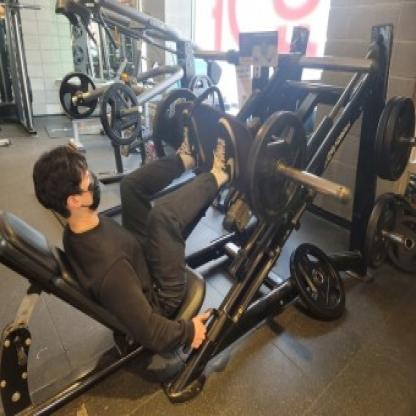leg press: (0, 1, 396, 416)
